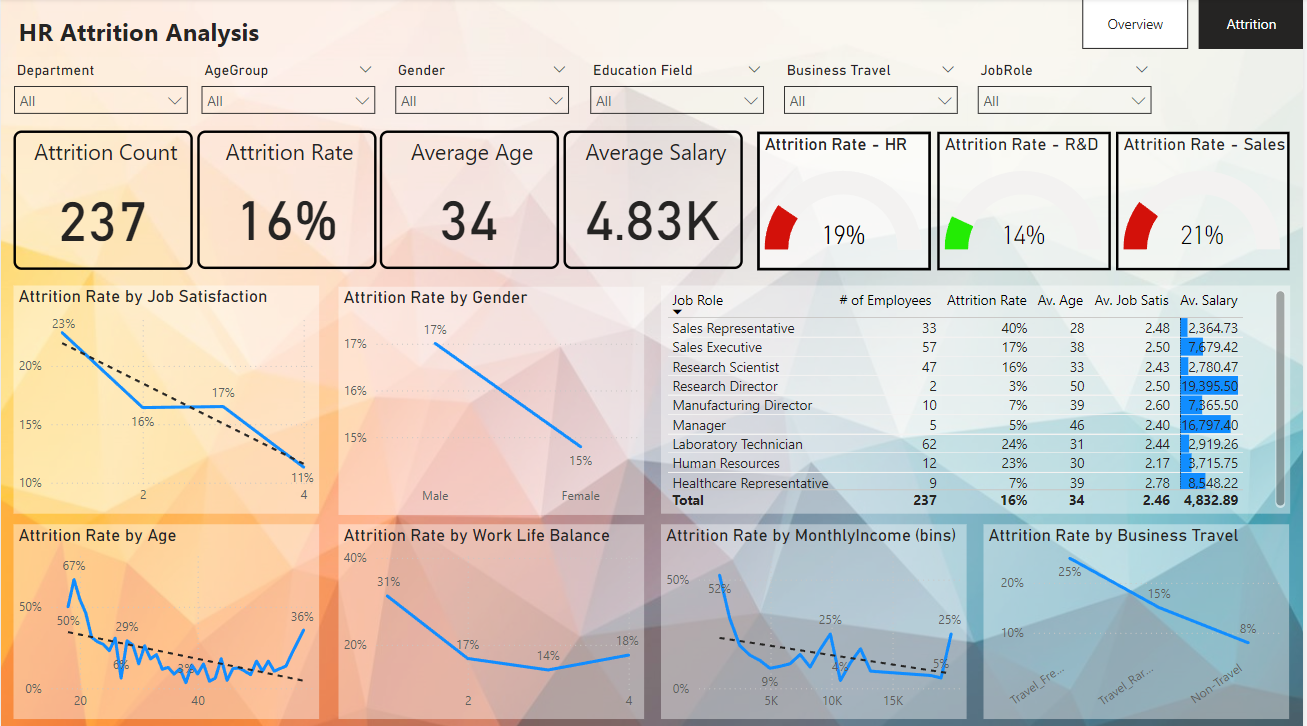

Layout of this report page (visuals, bound fields, positions):
{"tool":"powerbi","page":{"name":"Attrition ","canvas":[1280,720],"ordinal":1},"visuals":[{"type":"slicer","fields":{"Values":["Department.Department"]},"box":[2,58,190.4,67.8],"z":0},{"type":"slicer","fields":{"Values":["HR_Analytics.AgeGroup"]},"box":[186.7,58,190.4,67.8],"z":1000},{"type":"slicer","fields":{"Values":["HR_Analytics.JobRole"]},"box":[948.5,58,190.4,67.8],"z":2000},{"type":"slicer","fields":{"Values":["HR_Analytics.Gender"]},"box":[377.1,58,190.4,67.8],"z":3000},{"type":"slicer","fields":{"Values":["HR_Analytics.BusinessTravel"]},"box":[758,58,190.4,67.8],"z":4000},{"type":"slicer","fields":{"Values":["HR_Analytics.EducationField"]},"box":[567.6,58,190.4,67.8],"z":5000},{"type":"card","title":"Attrition Count","fields":{"Values":["HR_Analytics.Attrition Count"]},"box":[12.4,130.2,176,137.1],"z":6000},{"type":"card","title":"Average Salary","fields":{"Values":["HR_Analytics.Average Salary"]},"box":[552.5,130,176.2,136.2],"z":7000},{"type":"card","title":"Average Age","fields":{"Values":["HR_Analytics.Average Age"]},"box":[372.4,130,176.2,136.2],"z":8000},{"type":"card","title":"Attrition Rate","fields":{"Values":["HR_Analytics.Attrition Rate"]},"box":[192.3,130,176.2,136.2],"z":9000},{"type":"gauge","title":"Attrition Rate - HR","fields":{"Y":["HR_Analytics.Attrition Rate"]},"box":[742.5,130.8,170,136.2],"z":9001},{"type":"gauge","title":"Attrition Rate - R&D","fields":{"Y":["HR_Analytics.Attrition Rate"]},"box":[918.8,130.8,170,136.2],"z":9003},{"type":"gauge","title":"Attrition Rate - Sales","fields":{"Y":["HR_Analytics.Attrition Rate"]},"box":[1095,130.8,170,136.2],"z":9004},{"type":"lineChart","fields":{"Y":["HR_Analytics.Attrition Rate"],"Category":["HR_Analytics.Age"]},"box":[12.5,516.2,300,191.2],"z":9005},{"type":"gauge","title":"Attrition Rate - HR","fields":{"Y":["HR_Analytics.Attrition Rate"]},"box":[742.5,131.2,170,136.2],"z":9006},{"type":"lineChart","fields":{"Y":["HR_Analytics.Attrition Rate"],"Category":["HR_Analytics.MonthlyIncome (bins)"]},"box":[647.5,516.2,300,191.2],"z":9007},{"type":"lineChart","fields":{"Y":["HR_Analytics.Attrition Rate"],"Category":["HR_Analytics.JobSatisfaction"]},"box":[12.5,282.5,300,223.8],"z":9008},{"type":"lineChart","fields":{"Y":["HR_Analytics.Attrition Rate"],"Category":["HR_Analytics.Gender"]},"box":[331.2,283.8,300,223.8],"z":9009},{"type":"lineChart","fields":{"Y":["HR_Analytics.Attrition Rate"],"Category":["HR_Analytics.Business Travel"]},"box":[965,516.2,300,191.2],"z":9010},{"type":"lineChart","fields":{"Y":["HR_Analytics.Attrition Rate"],"Category":["HR_Analytics.WorkLifeBalance"]},"box":[331.2,516.2,300,191.2],"z":9011},{"type":"tableEx","fields":{"Values":["HR_Analytics.JobRole","HR_Analytics.Employee Count","HR_Analytics.Attrition Rate","HR_Analytics.Average Age","HR_Analytics.Average Job Satisfaction","HR_Analytics.Average Salary"]},"box":[647.5,282.5,617.5,223.8],"z":9012},{"type":"pageNavigator","box":[1061.2,0,218.8,50],"z":9013},{"type":"textbox","box":[12.5,12.5,270,57.5],"z":9014}]}

Visuals, with their boxes in screenshot pixels (x1, y1, x2, y2), scaled from the page's 1280x720 canvas onto the 1307x726 screenshot:
slicer - Department.Department: 2,58,196,127
slicer - HR_Analytics.AgeGroup: 191,58,385,127
slicer - HR_Analytics.JobRole: 969,58,1163,127
slicer - HR_Analytics.Gender: 385,58,579,127
slicer - HR_Analytics.BusinessTravel: 774,58,968,127
slicer - HR_Analytics.EducationField: 580,58,774,127
"Attrition Count" card: 13,131,192,270
"Average Salary" card: 564,131,744,268
"Average Age" card: 380,131,560,268
"Attrition Rate" card: 196,131,376,268
"Attrition Rate - HR" gauge: 758,132,932,269
"Attrition Rate - R&D" gauge: 938,132,1112,269
"Attrition Rate - Sales" gauge: 1118,132,1292,269
lineChart - HR_Analytics.Attrition Rate x HR_Analytics.Age: 13,521,319,713
"Attrition Rate - HR" gauge: 758,132,932,270
lineChart - HR_Analytics.Attrition Rate x HR_Analytics.MonthlyIncome (bins): 661,521,967,713
lineChart - HR_Analytics.Attrition Rate x HR_Analytics.JobSatisfaction: 13,285,319,511
lineChart - HR_Analytics.Attrition Rate x HR_Analytics.Gender: 338,286,645,512
lineChart - HR_Analytics.Attrition Rate x HR_Analytics.Business Travel: 985,521,1292,713
lineChart - HR_Analytics.Attrition Rate x HR_Analytics.WorkLifeBalance: 338,521,645,713
tableEx - HR_Analytics.JobRole x HR_Analytics.Employee Count: 661,285,1292,511
pageNavigator: 1084,0,1306,50
textbox: 13,13,288,71
